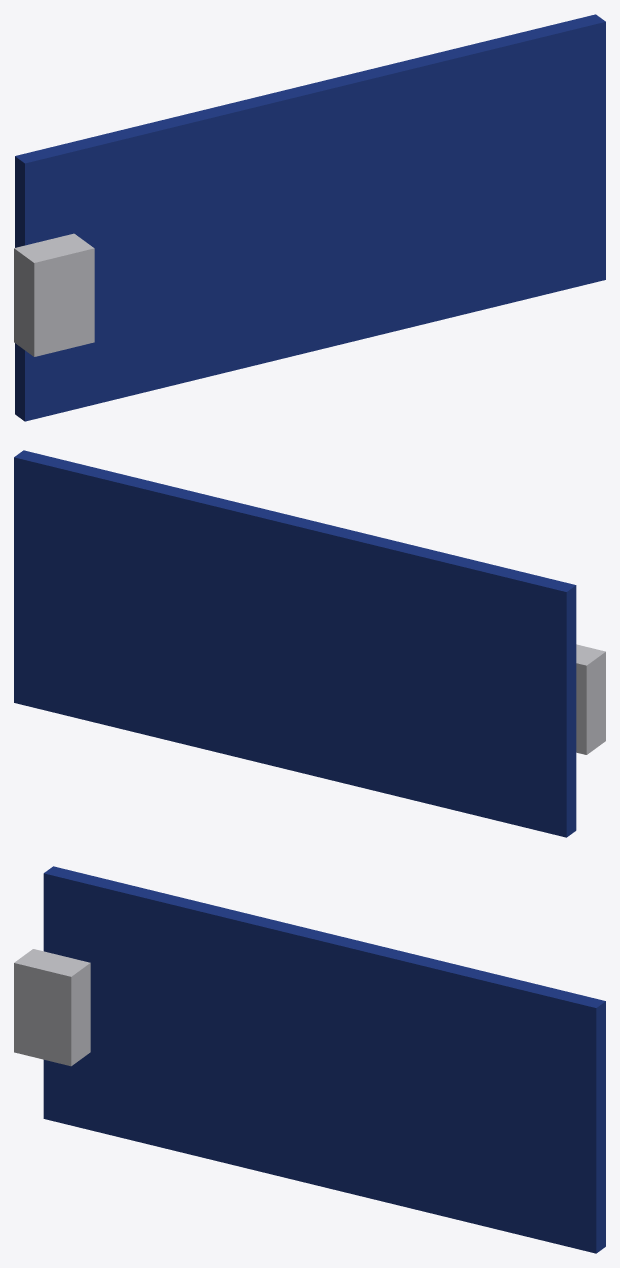
Rendered from mod-bluepill.glb.
3 renders of one model, top to bottom at view 1: azimuth 30°, elevation 25°; view 2: azimuth 150°, elevation 25°; view 3: azimuth 330°, elevation 25°, orthographic. The views are drawn at different scales.
Parts seen in each view (by area): view 1: PCB-MCU, MET-PORT; view 2: PCB-MCU, MET-PORT; view 3: PCB-MCU, MET-PORT.
Part boxes in pixels (left/top/right/bottom): PCB-MCU: left=15, top=14, right=605, bottom=421; MET-PORT: left=14, top=233, right=94, bottom=356; PCB-MCU: left=14, top=450, right=576, bottom=837; MET-PORT: left=576, top=644, right=605, bottom=754; PCB-MCU: left=43, top=866, right=605, bottom=1253; MET-PORT: left=14, top=949, right=90, bottom=1066.
Bounding box in the file's own units: 54 × 22.5 × 4.8.
